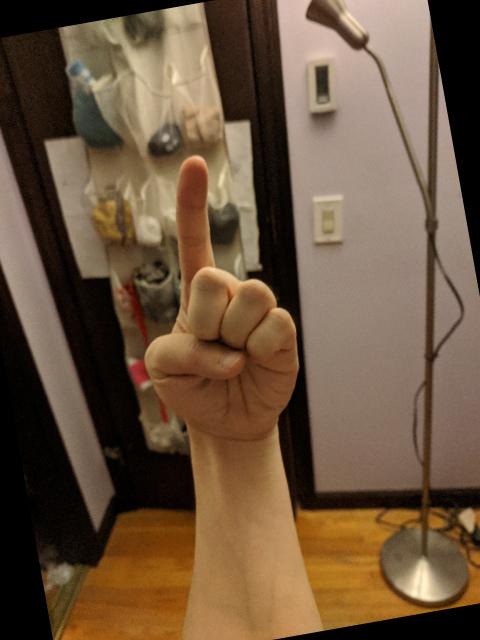D: (103, 138, 318, 462)
